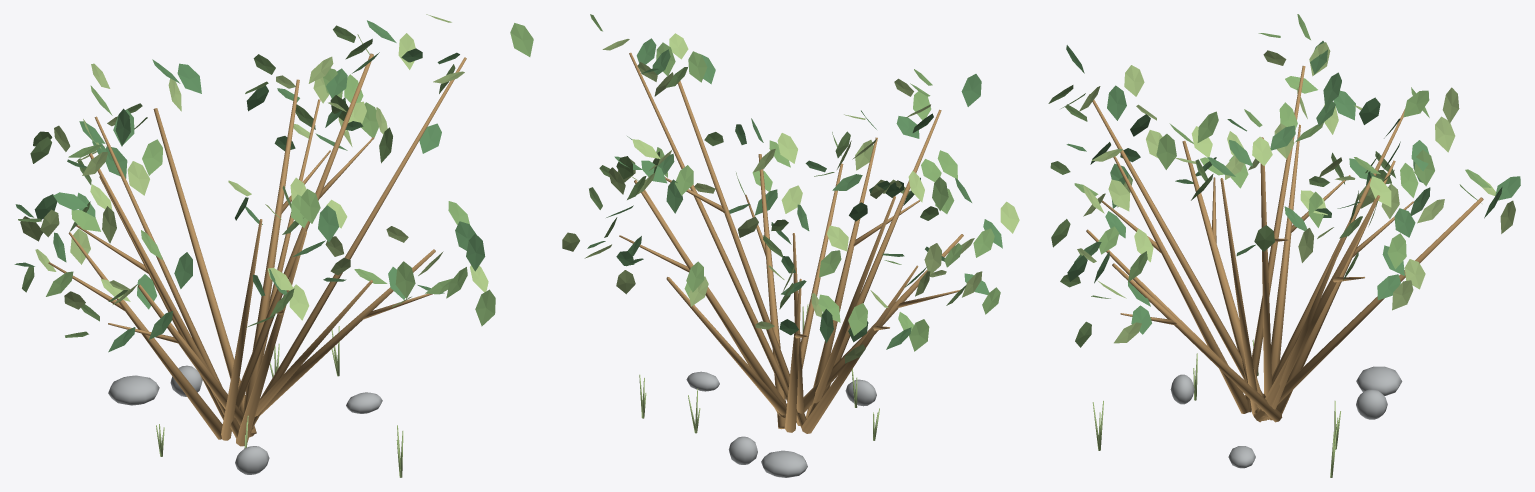
The model's file is green_bush_d.glb.
The picture shows the model from 3 angles, left to right: view 1: azimuth 30°, elevation 25°; view 2: azimuth 150°, elevation 25°; view 3: azimuth 270°, elevation 25°; orthographic projection. The views are drawn at different scales.
Parts seen in each view (by area): view 1: green_bush_d_stem_13, green_bush_d_stem_0, green_bush_d_stem_3, green_bush_d_stem_2, green_bush_d_stem_6, green_bush_d_stem_9, green_bush_d_stem_10, green_bush_d_stem_7, green_bush_d_stem_5, green_bush_d_stem_12, green_bush_d_stem_8, bush_ground_rock_0 (+6 smaller); view 2: green_bush_d_stem_0, green_bush_d_stem_13, green_bush_d_stem_2, green_bush_d_stem_6, green_bush_d_stem_9, green_bush_d_stem_7, green_bush_d_stem_10, green_bush_d_stem_12, green_bush_d_stem_3, green_bush_d_stem_4, green_bush_d_stem_8, bush_ground_rock_0 (+5 smaller); view 3: green_bush_d_stem_9, green_bush_d_stem_10, green_bush_d_stem_3, green_bush_d_stem_8, green_bush_d_stem_12, green_bush_d_stem_6, green_bush_d_stem_7, green_bush_d_stem_0, green_bush_d_stem_2, green_bush_d_stem_13, green_bush_d_stem_5, green_bush_d_stem_4 (+7 smaller).
Part boxes in pixels (x1,y1,x2,y2): green_bush_d_stem_13: (251, 57, 466, 430); green_bush_d_stem_0: (236, 53, 373, 408); green_bush_d_stem_3: (153, 108, 256, 434); green_bush_d_stem_2: (243, 79, 299, 414); green_bush_d_stem_6: (68, 232, 222, 439); green_bush_d_stem_9: (221, 219, 262, 440); green_bush_d_stem_10: (236, 231, 306, 446); green_bush_d_stem_7: (89, 153, 240, 438); green_bush_d_stem_5: (94, 116, 222, 387); green_bush_d_stem_12: (260, 249, 435, 415); green_bush_d_stem_8: (138, 284, 253, 437); bush_ground_rock_0: (108, 375, 159, 405); green_bush_d_stem_0: (677, 81, 806, 426); green_bush_d_stem_13: (629, 52, 788, 401); green_bush_d_stem_2: (634, 180, 796, 422); green_bush_d_stem_6: (801, 265, 918, 433); green_bush_d_stem_9: (807, 109, 941, 418); green_bush_d_stem_7: (805, 196, 895, 418); green_bush_d_stem_10: (806, 137, 877, 413); green_bush_d_stem_12: (758, 154, 785, 429); green_bush_d_stem_3: (666, 277, 786, 415); green_bush_d_stem_4: (784, 278, 801, 432); green_bush_d_stem_8: (796, 234, 963, 421); bush_ground_rock_0: (761, 450, 807, 477); green_bush_d_stem_9: (1089, 94, 1263, 395); green_bush_d_stem_10: (1113, 156, 1248, 413); green_bush_d_stem_3: (1253, 197, 1483, 422); green_bush_d_stem_8: (1182, 140, 1268, 420); green_bush_d_stem_12: (1112, 263, 1282, 422); green_bush_d_stem_6: (1271, 124, 1300, 375); green_bush_d_stem_7: (1245, 66, 1305, 412); green_bush_d_stem_0: (1260, 137, 1272, 396); green_bush_d_stem_2: (1261, 195, 1379, 420); green_bush_d_stem_13: (1220, 178, 1257, 416); green_bush_d_stem_5: (1262, 108, 1405, 398); green_bush_d_stem_4: (1276, 160, 1395, 414).
Size of the model in its own units: 1.51 by 1.19 by 1.38.
